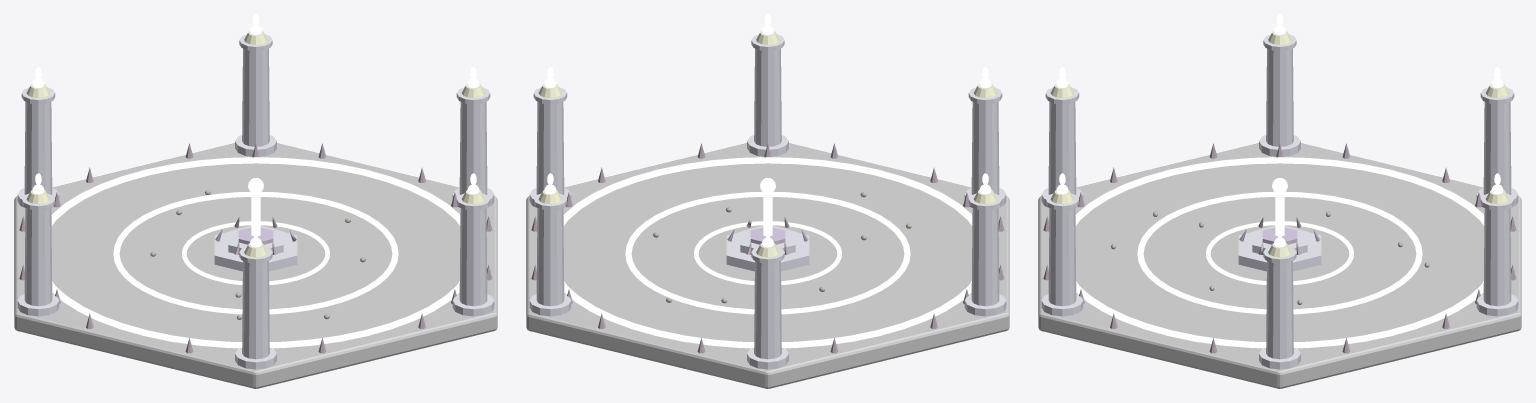
The model's file is boss_platform.glb.
The picture shows the model from 3 angles, left to right: view 1: azimuth 30°, elevation 25°; view 2: azimuth 150°, elevation 25°; view 3: azimuth 270°, elevation 25°; orthographic projection.
Parts seen in each view (by area): view 1: Floor, Ritual_Ring_5.5, Ritual_Ring_3.5, Pillar_1, Pillar_3, Pillar_4, Pillar_5, Pillar_2, Pillar_0, Ritual_Ring_1.8, Altar_Base, Altar_Mid (+5 smaller); view 2: Floor, Ritual_Ring_5.5, Ritual_Ring_3.5, Pillar_2, Pillar_5, Pillar_3, Pillar_1, Pillar_4, Pillar_0, Ritual_Ring_1.8, Altar_Base, Altar_Mid (+5 smaller); view 3: Floor, Ritual_Ring_5.5, Ritual_Ring_3.5, Pillar_3, Pillar_5, Pillar_1, Pillar_0, Pillar_4, Pillar_2, Ritual_Ring_1.8, Altar_Base, Altar_Mid (+5 smaller).
Boxes of the visible parts, <box> form: Floor: <box>14,143,497,388</box>; Ritual_Ring_5.5: <box>51,157,460,348</box>; Ritual_Ring_3.5: <box>113,191,398,314</box>; Pillar_1: <box>242,37,269,146</box>; Pillar_3: <box>24,196,52,306</box>; Pillar_4: <box>242,249,269,359</box>; Pillar_5: <box>459,196,487,306</box>; Pillar_2: <box>24,90,52,194</box>; Pillar_0: <box>459,90,487,194</box>; Ritual_Ring_1.8: <box>182,221,329,284</box>; Altar_Base: <box>214,232,297,271</box>; Altar_Mid: <box>228,226,283,254</box>; Floor: <box>526,143,1009,388</box>; Ritual_Ring_5.5: <box>563,157,972,348</box>; Ritual_Ring_3.5: <box>625,191,910,314</box>; Pillar_2: <box>754,249,781,359</box>; Pillar_5: <box>754,37,781,146</box>; Pillar_3: <box>971,196,999,306</box>; Pillar_1: <box>536,198,564,306</box>; Pillar_4: <box>971,90,999,194</box>; Pillar_0: <box>536,91,564,194</box>; Ritual_Ring_1.8: <box>694,221,841,284</box>; Altar_Base: <box>726,232,809,271</box>; Altar_Mid: <box>740,226,795,254</box>; Floor: <box>1038,143,1521,388</box>; Ritual_Ring_5.5: <box>1075,157,1484,348</box>; Ritual_Ring_3.5: <box>1137,191,1422,314</box>; Pillar_3: <box>1266,37,1293,146</box>; Pillar_5: <box>1048,196,1076,306</box>; Pillar_1: <box>1483,196,1511,306</box>; Pillar_0: <box>1266,250,1293,359</box>; Pillar_4: <box>1048,90,1076,194</box>; Pillar_2: <box>1483,90,1511,194</box>; Ritual_Ring_1.8: <box>1206,221,1353,284</box>; Altar_Base: <box>1238,232,1321,271</box>; Altar_Mid: <box>1252,226,1307,254</box>.
Bounding box in the file's own units: 13.96 × 4.22 × 12.12.
